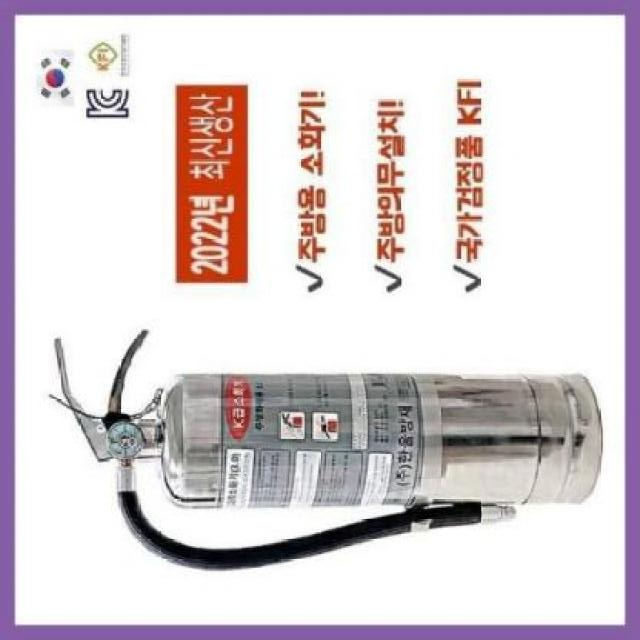fire extinguisher: (53, 329, 604, 573)
